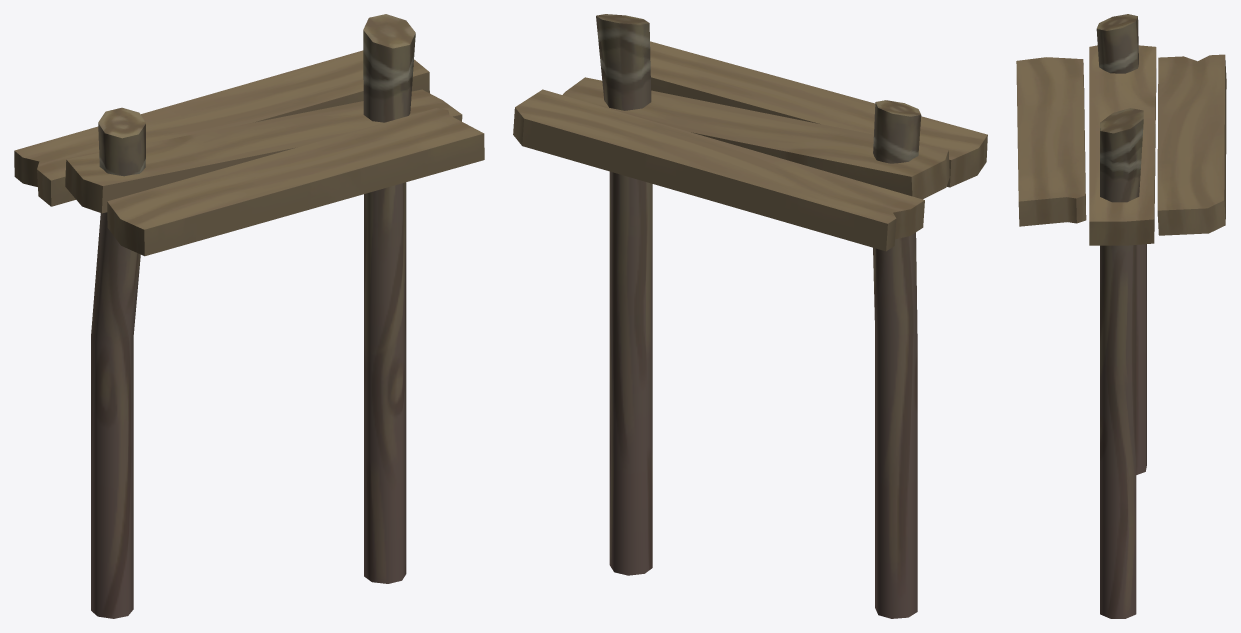
Rendered from docks4x2_mesh.fbx.
3 views of the same model, side by side, from view 1: azimuth 30°, elevation 25°; view 2: azimuth 150°, elevation 25°; view 3: azimuth 270°, elevation 25° (orthographic). The views are drawn at different scales.
Visible parts, largest first — view 1: docks4x2_mesh; view 2: docks4x2_mesh; view 3: docks4x2_mesh.
Part boxes in pixels (bbox=[...]): docks4x2_mesh: bbox=[14, 14, 484, 618]; docks4x2_mesh: bbox=[513, 14, 987, 618]; docks4x2_mesh: bbox=[1016, 14, 1226, 618].
Size of the model in its own units: 3.39 by 4.67 by 1.78.
